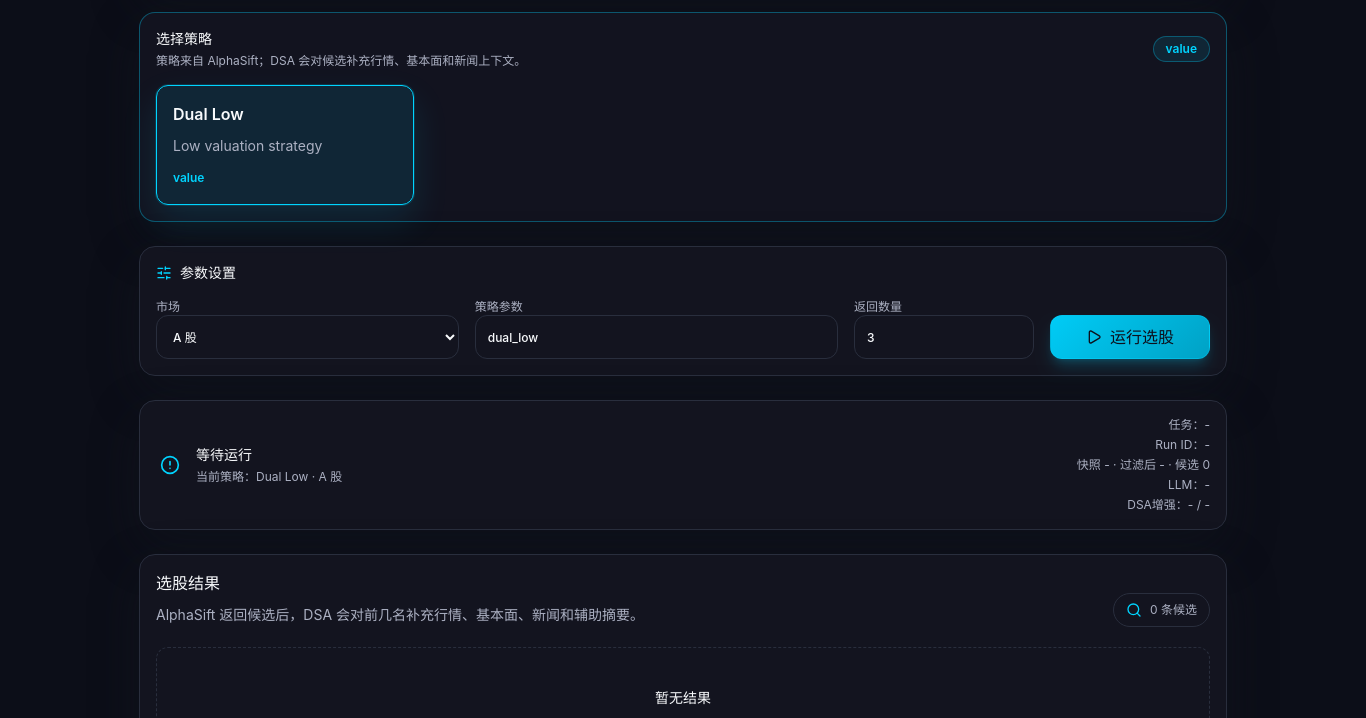
StockScreeningPage › surfaces AlphaSift LLM fallback instead of showing empty LLM fields as normal
(page scrolled)
Click the button "运行选股": point(1130, 337) [1050, 315, 1210, 359]
(page scrolled)
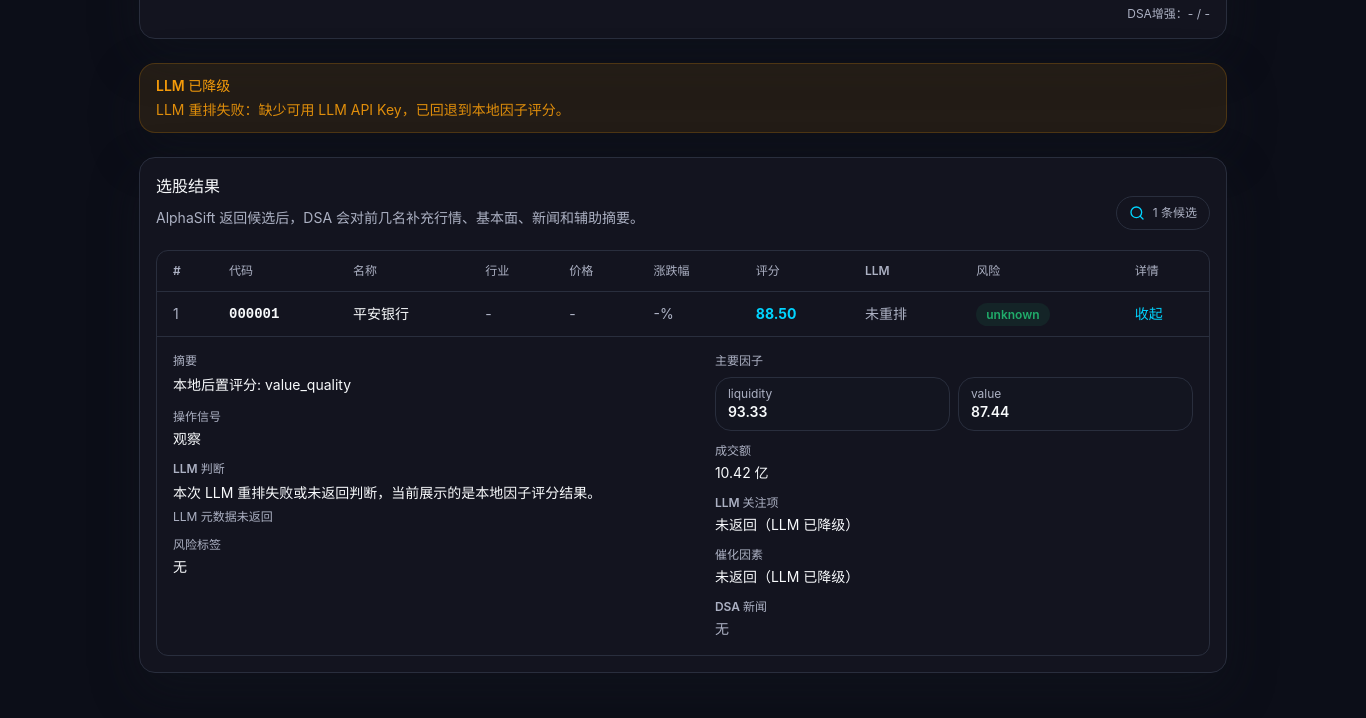
Check: the text "LLM 已降级" is shown, box [156, 77, 230, 94]
Check: the text "LLM 重排失败：缺少可用 LLM API Key，已回退到本地因子评分。" is shown, box [156, 101, 570, 118]
Check: the text "未重排" is shown, box [849, 292, 960, 336]
